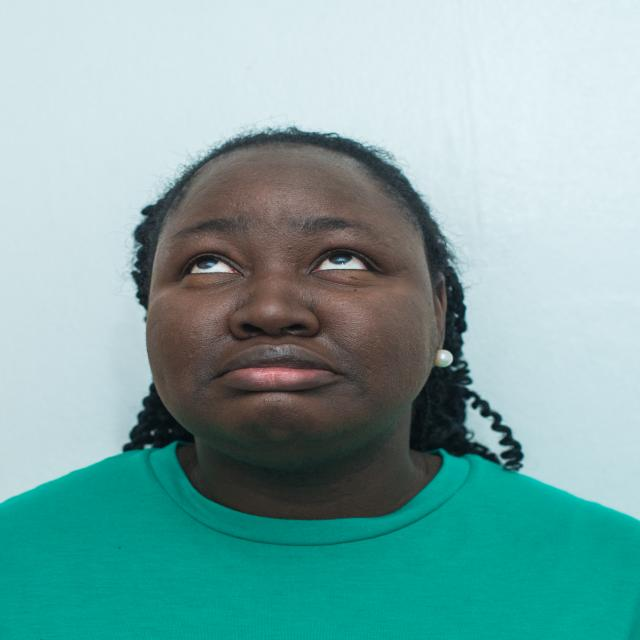sad: (130, 125, 462, 461)
